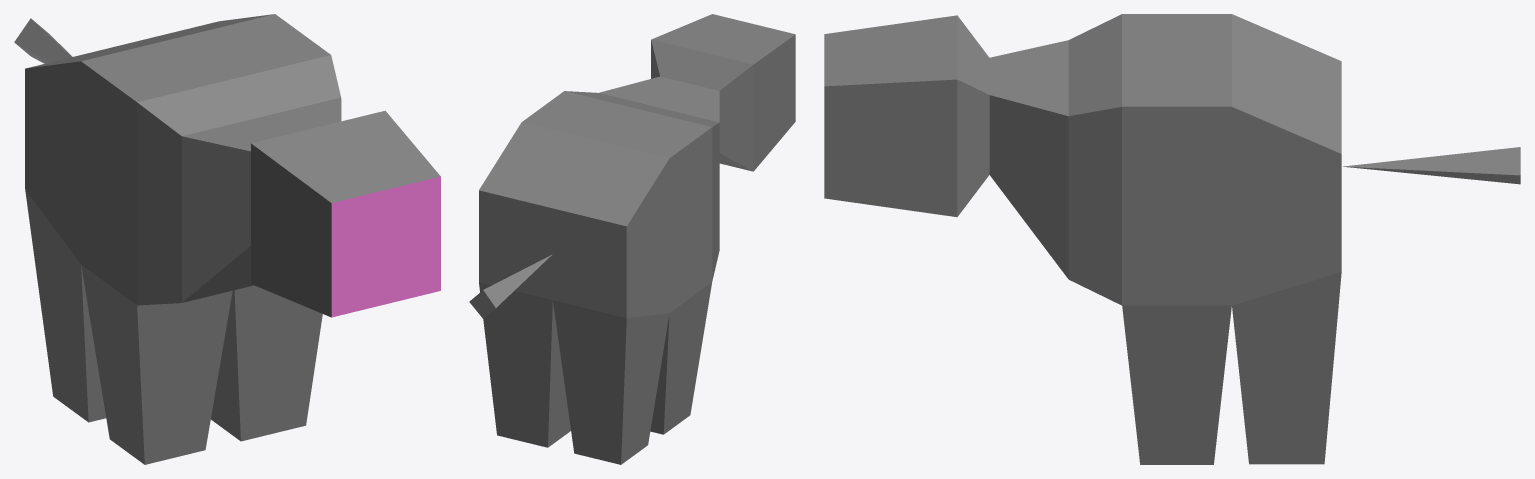
File: dog.glb
3 views of the same model, side by side, from view 1: azimuth 30°, elevation 25°; view 2: azimuth 150°, elevation 25°; view 3: azimuth 270°, elevation 25° (orthographic). The views are drawn at different scales.
Parts seen in each view (by area): view 1: Cube; view 2: Cube; view 3: Cube.
Boxes of the visible parts, x1=… form: Cube: x1=14, y1=14, x2=440, y2=464; Cube: x1=469, y1=14, x2=795, y2=464; Cube: x1=824, y1=14, x2=1520, y2=464.
Bounding box in the file's own units: 3.23 × 6.17 × 10.25.
1 material, 1 textured.
